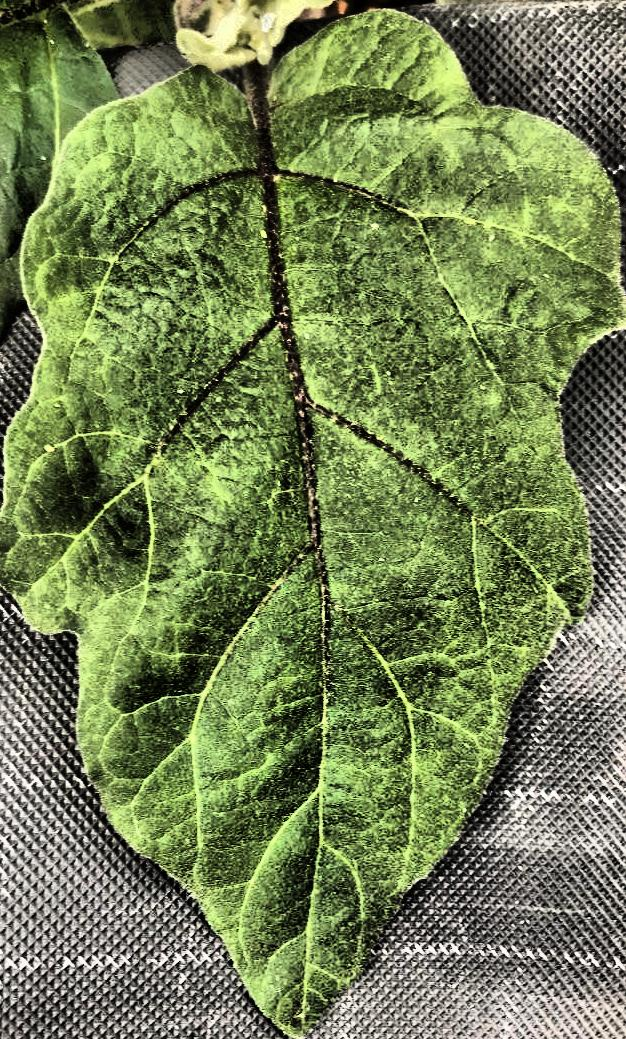HEALTHY: (1, 1, 626, 1039)
